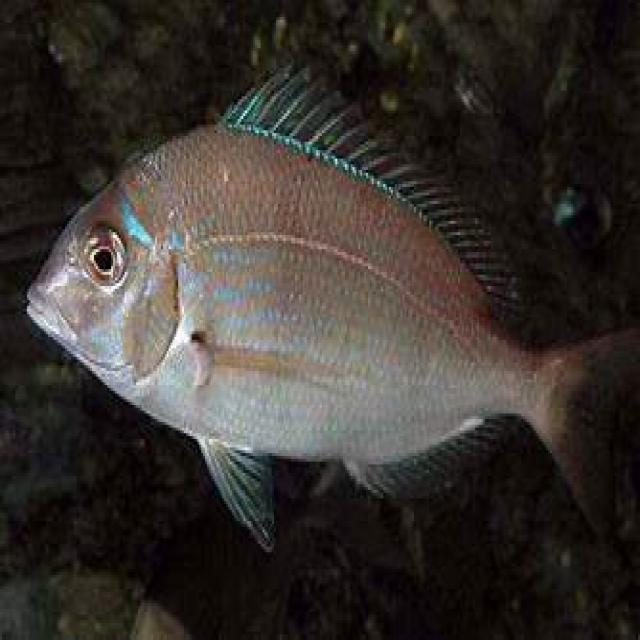Healthy Fish: (8, 80, 622, 554)
